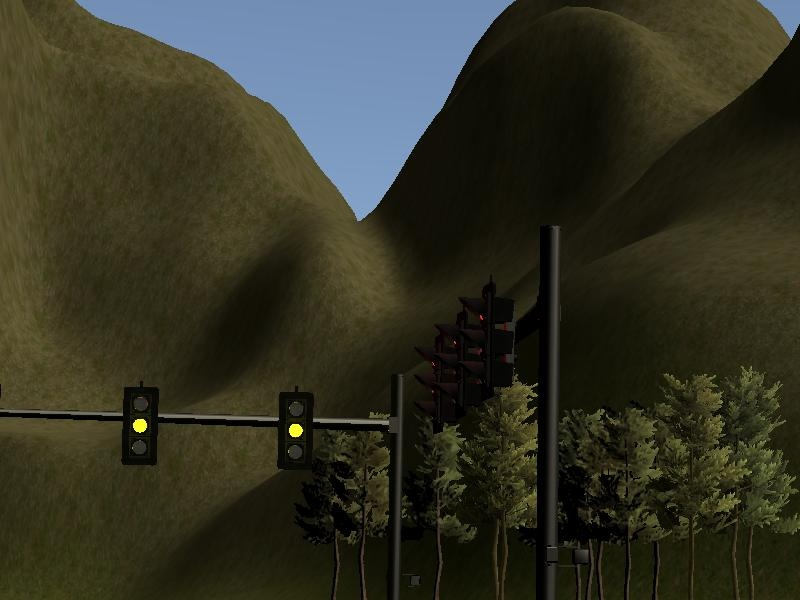YELLOW: (278, 388, 315, 471), (122, 383, 159, 466)
